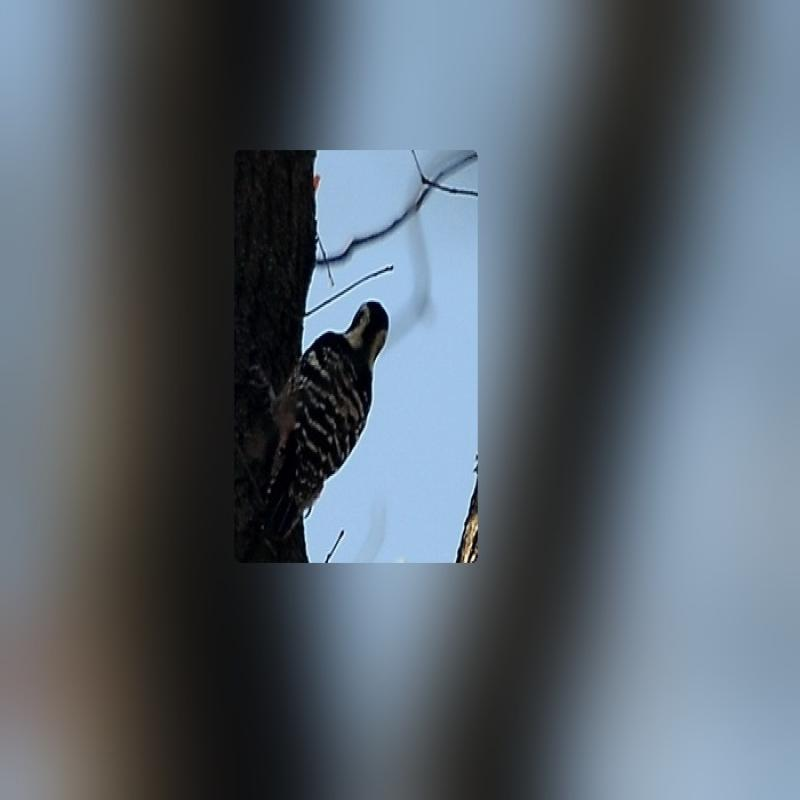white-backed woodpecker: (254, 273, 405, 532)
